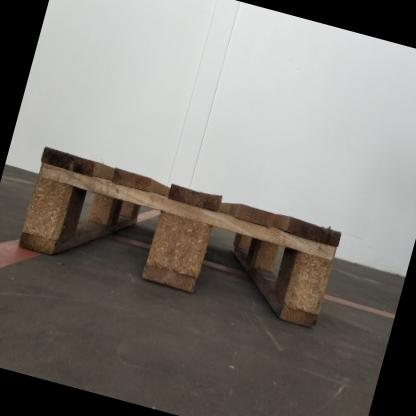BoxFace: (12, 141, 344, 334)
